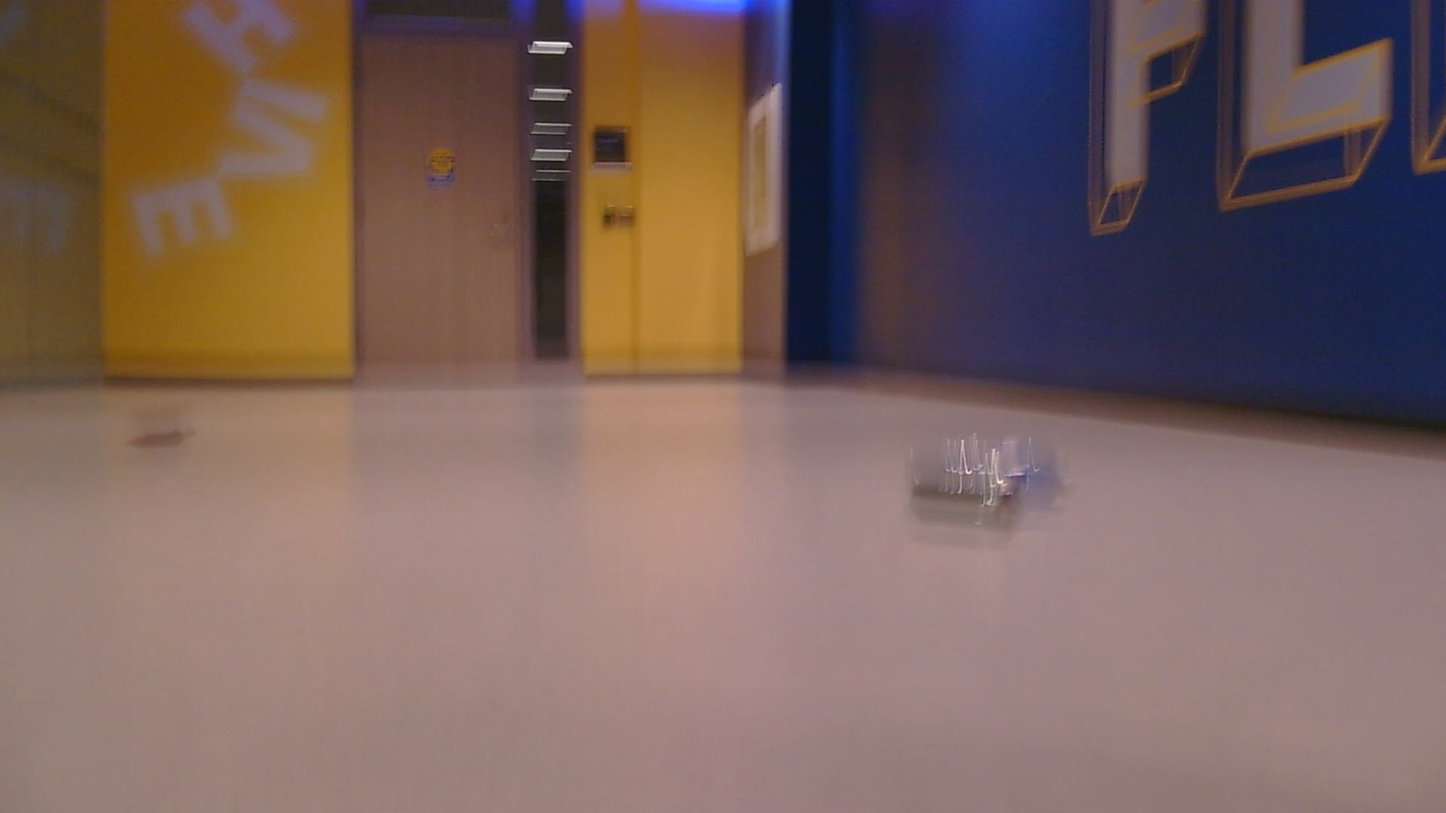can: (905, 433, 1070, 547), (121, 403, 201, 451)
